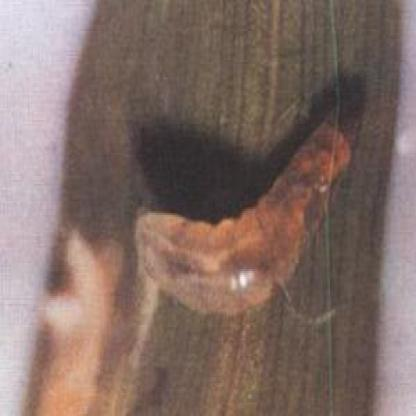whorl-maggot: (138, 116, 358, 325)
